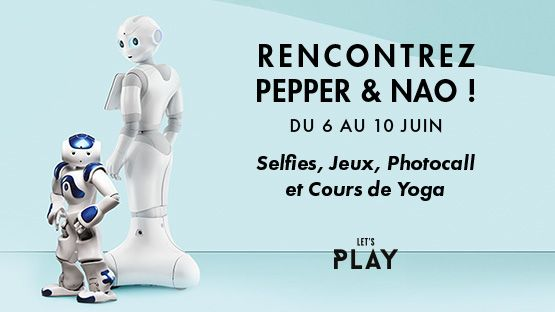nao: (34, 124, 128, 312)
